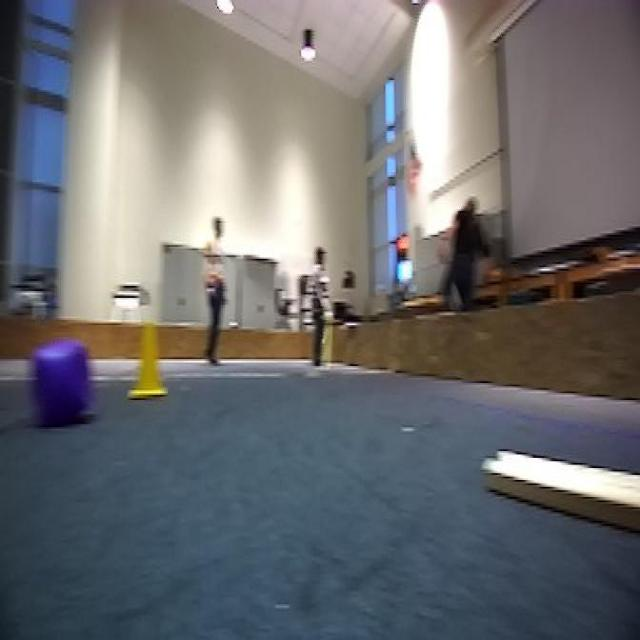frc_cone: (128, 318, 168, 404)
frc_cube: (32, 337, 88, 422)
